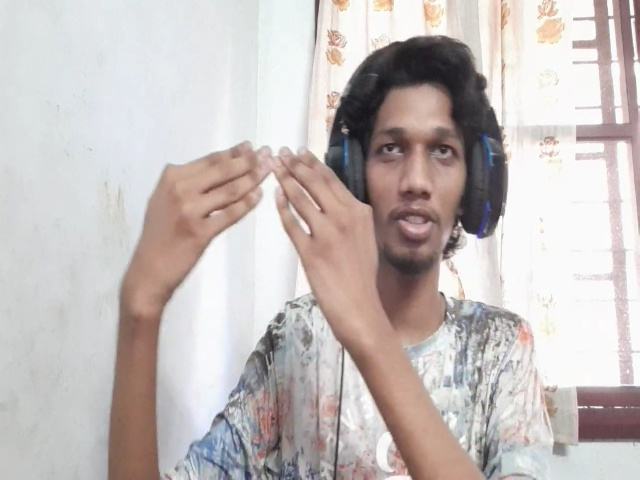ThankYou: (129, 140, 376, 292)
